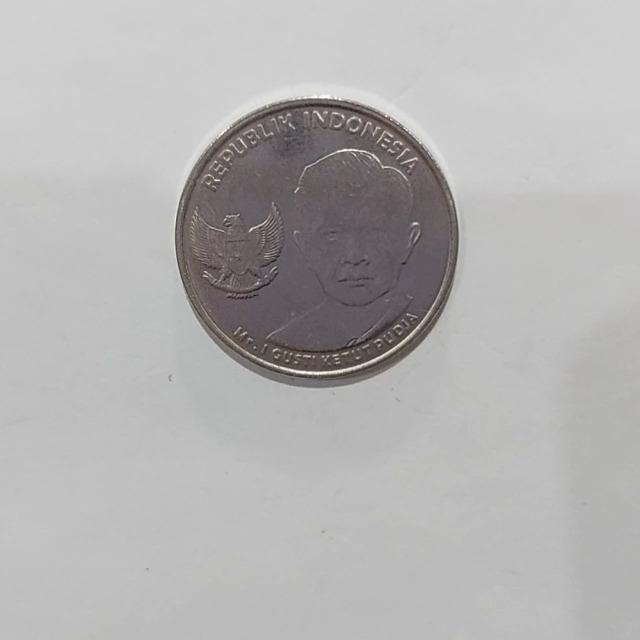Rp100: (172, 90, 461, 387)
